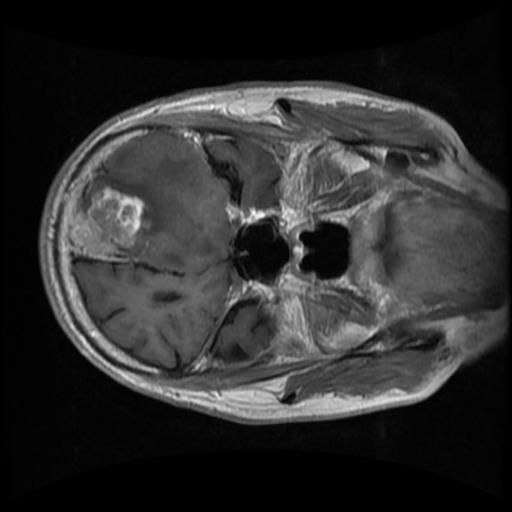meningioma: (69, 187, 144, 262)
